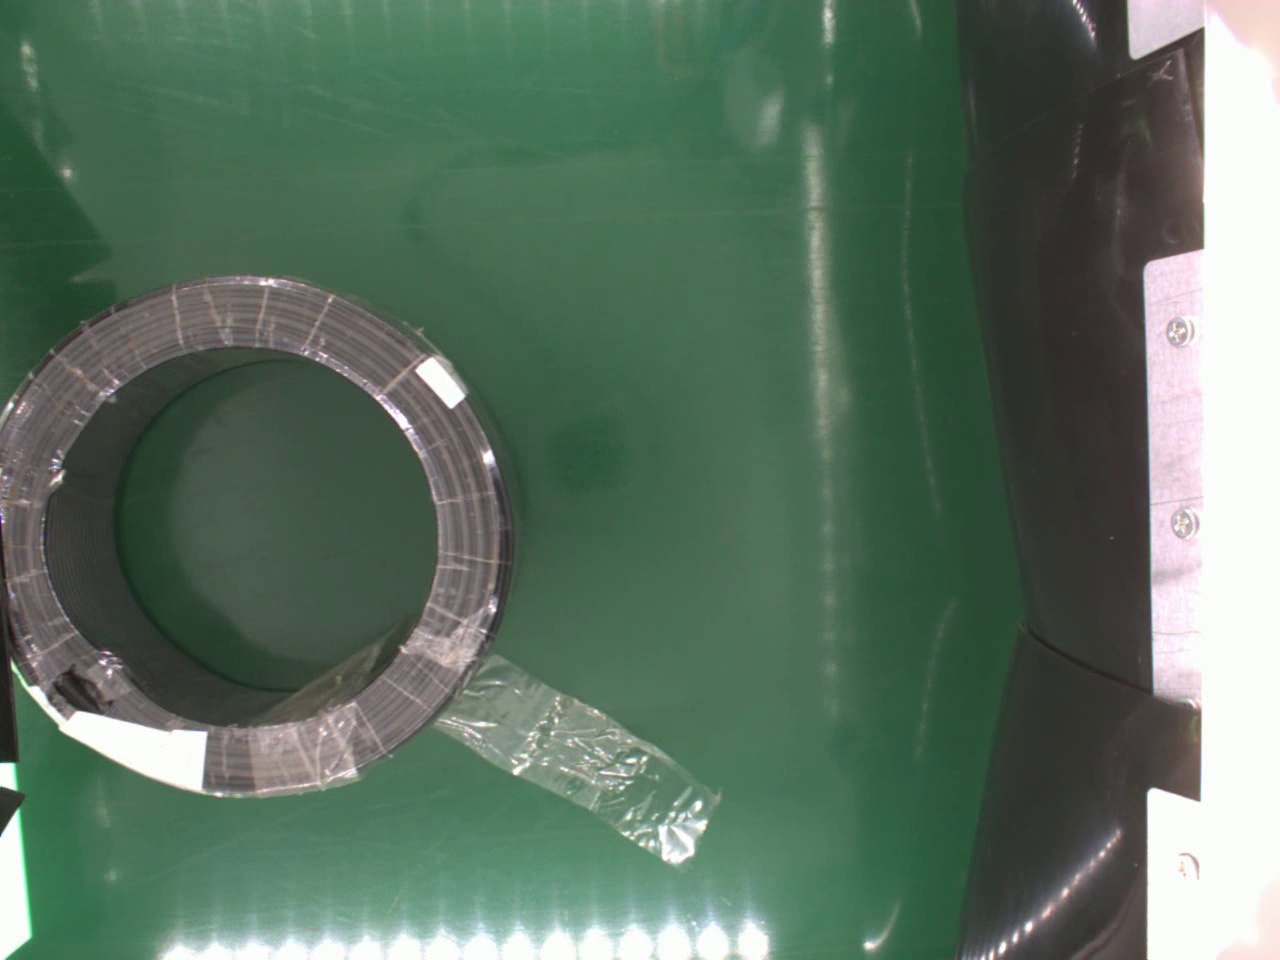black: (0, 266, 514, 807)
